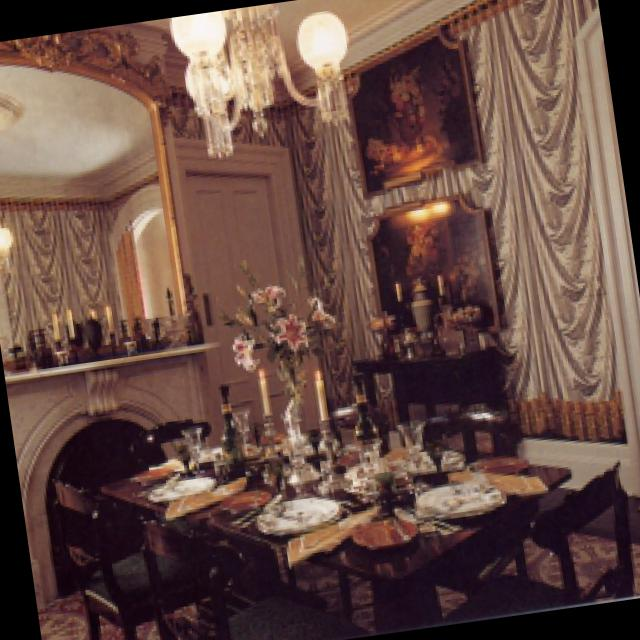bottle crop: (352, 371, 385, 464), (223, 377, 246, 464)
bouquet: (231, 277, 340, 478)
candle holder: (315, 367, 342, 461), (256, 360, 283, 451), (395, 272, 415, 336), (439, 267, 458, 333)
candles: (51, 301, 124, 362)
ceiling lamps: (174, 3, 352, 156)
chair: (391, 348, 517, 449), (132, 415, 215, 468)
chair -occluded-: (59, 483, 212, 640), (499, 462, 638, 613)
curtain crop: (456, 0, 623, 397)
door bars: (192, 166, 301, 437)
fireplace mantle: (7, 348, 216, 599)
glass ceiling: (186, 425, 206, 465)
mirror crop: (0, 58, 190, 359)
napkin ring: (286, 503, 381, 563), (169, 474, 248, 518), (480, 467, 543, 492)
painting crop: (345, 24, 487, 192), (371, 191, 510, 339)
plate food: (420, 478, 507, 518), (260, 495, 342, 531), (355, 517, 418, 547), (152, 475, 213, 497), (476, 453, 528, 472), (228, 485, 270, 507)
table -X: (104, 427, 576, 627)
vase -X: (413, 270, 433, 344)
